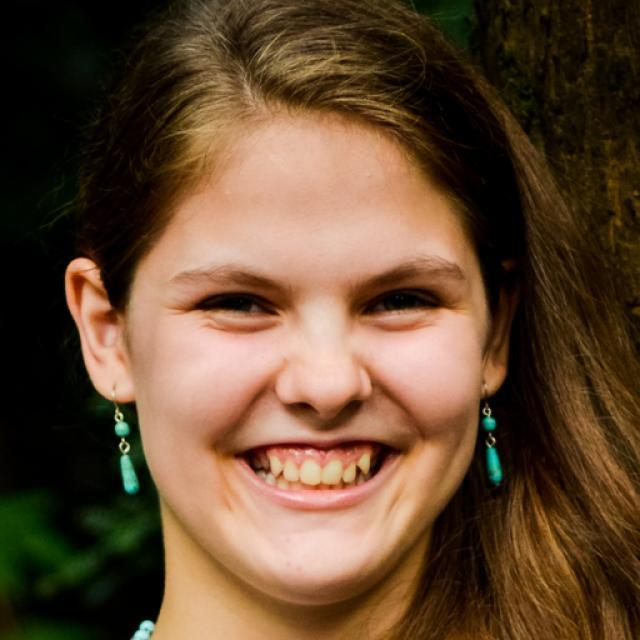happy: (130, 122, 488, 594)
